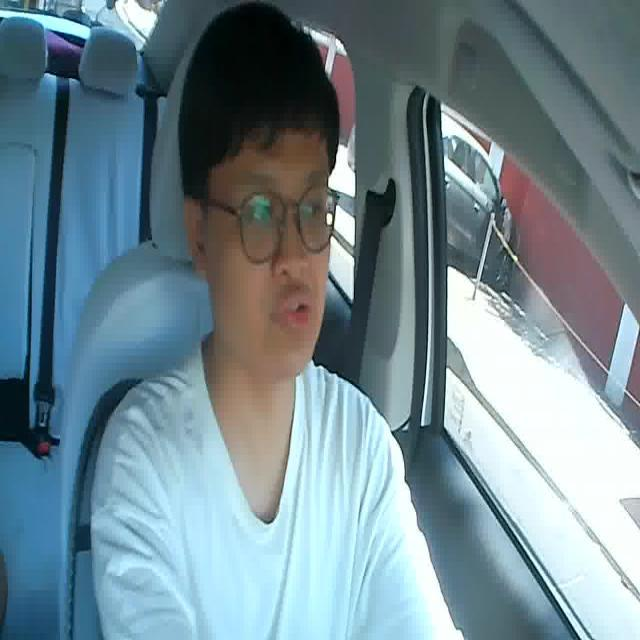Attentive: (169, 0, 342, 392)
Eye-Open: (252, 203, 277, 226), (302, 200, 324, 222)
Normal: (275, 289, 314, 325)
